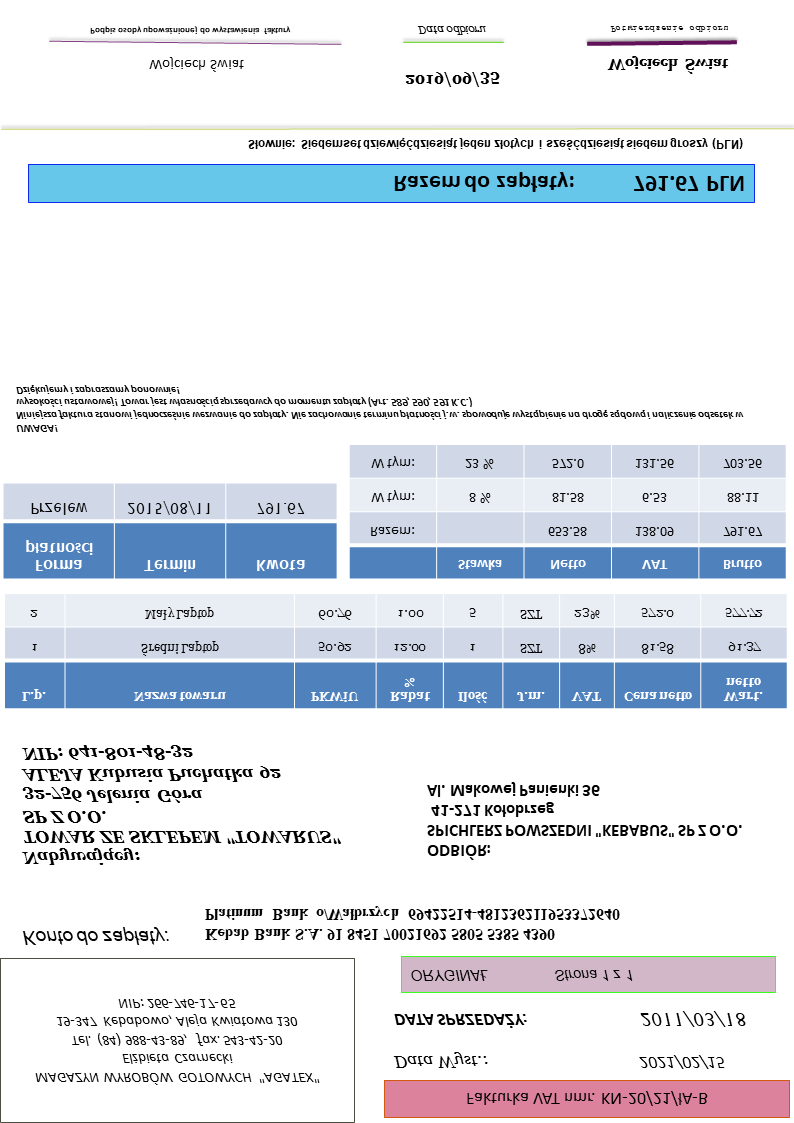Table: (2, 592, 788, 713), (346, 442, 788, 579), (2, 480, 338, 581)
TextBox: (19, 740, 342, 868), (13, 383, 746, 437), (30, 995, 325, 1086), (423, 781, 749, 862), (200, 902, 622, 947), (242, 135, 746, 156), (387, 170, 747, 199), (460, 1089, 712, 1110), (408, 965, 640, 987), (16, 927, 172, 950), (390, 1007, 527, 1032), (600, 53, 733, 77), (86, 24, 295, 38), (637, 1009, 749, 1033), (638, 1050, 726, 1077), (400, 69, 504, 91), (390, 1051, 493, 1073), (143, 55, 246, 77), (606, 22, 731, 37), (415, 22, 488, 41)
